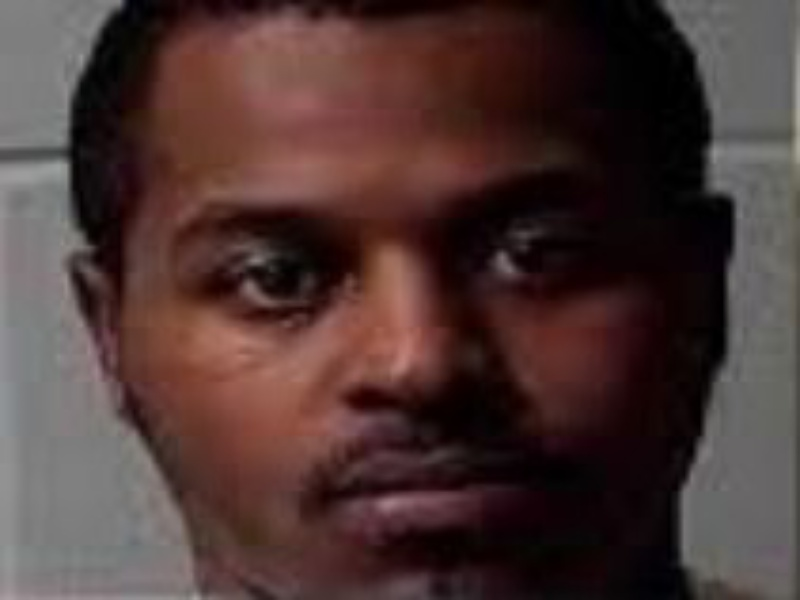TsisyArotava: (47, 1, 721, 597)
